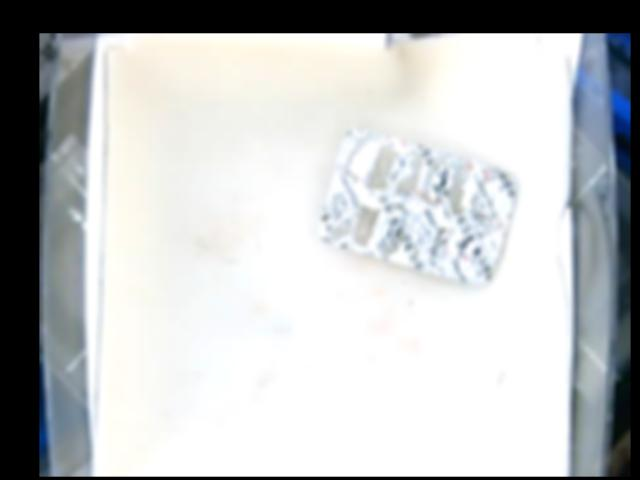Medicine: (317, 129, 516, 284)
